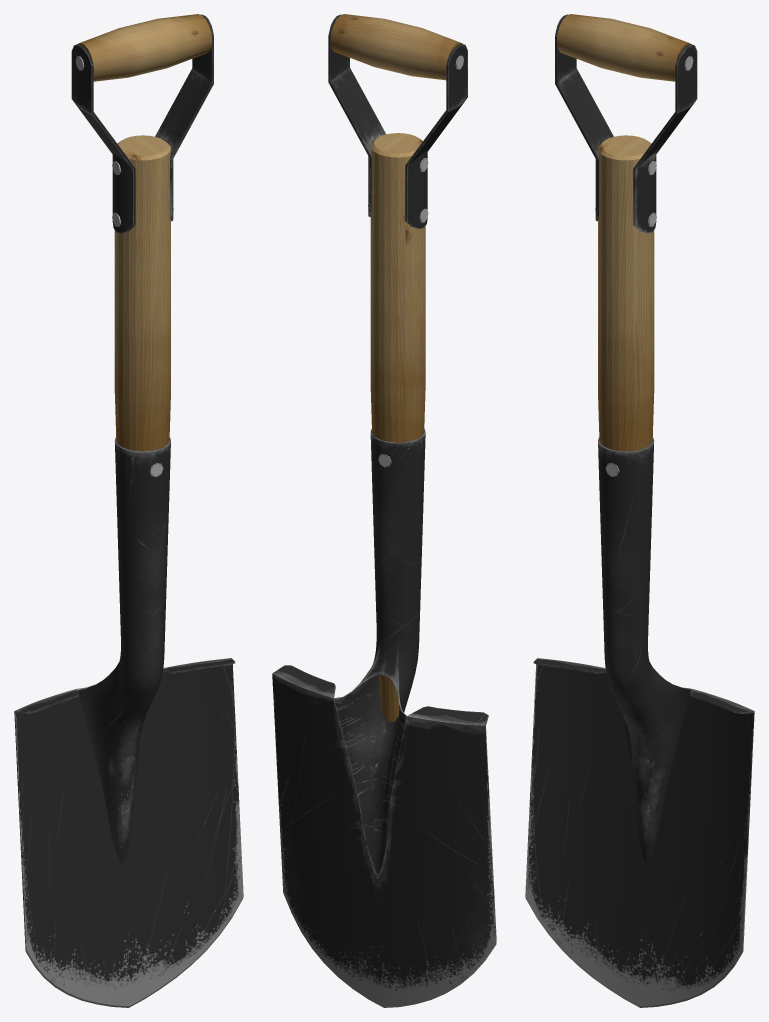
Rendered from shovel_02_midpoly.FBX.
3 views of the same model, side by side, from view 1: azimuth 30°, elevation 25°; view 2: azimuth 150°, elevation 25°; view 3: azimuth 330°, elevation 25° (orthographic). The views are drawn at different scales.
Parts seen in each view (by area): view 1: shovel_02_midpoly; view 2: shovel_02_midpoly; view 3: shovel_02_midpoly.
Part boxes in pixels (x1,y1,x2,y2): shovel_02_midpoly: [14, 14, 243, 1007]; shovel_02_midpoly: [272, 14, 496, 1007]; shovel_02_midpoly: [525, 14, 754, 1007].
Bounding box in the file's own units: 10.84 × 47.33 × 3.7.
